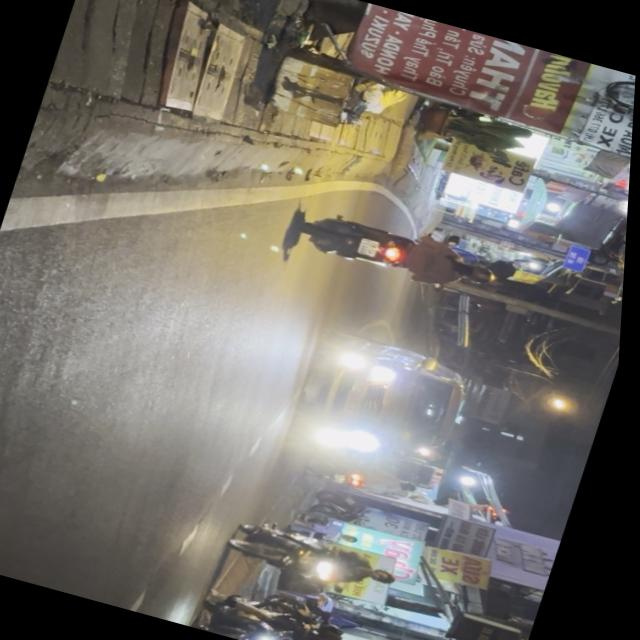helmet: (375, 566, 408, 588), (341, 634, 381, 640)
licenseplate: (225, 512, 416, 604), (191, 576, 391, 640)
